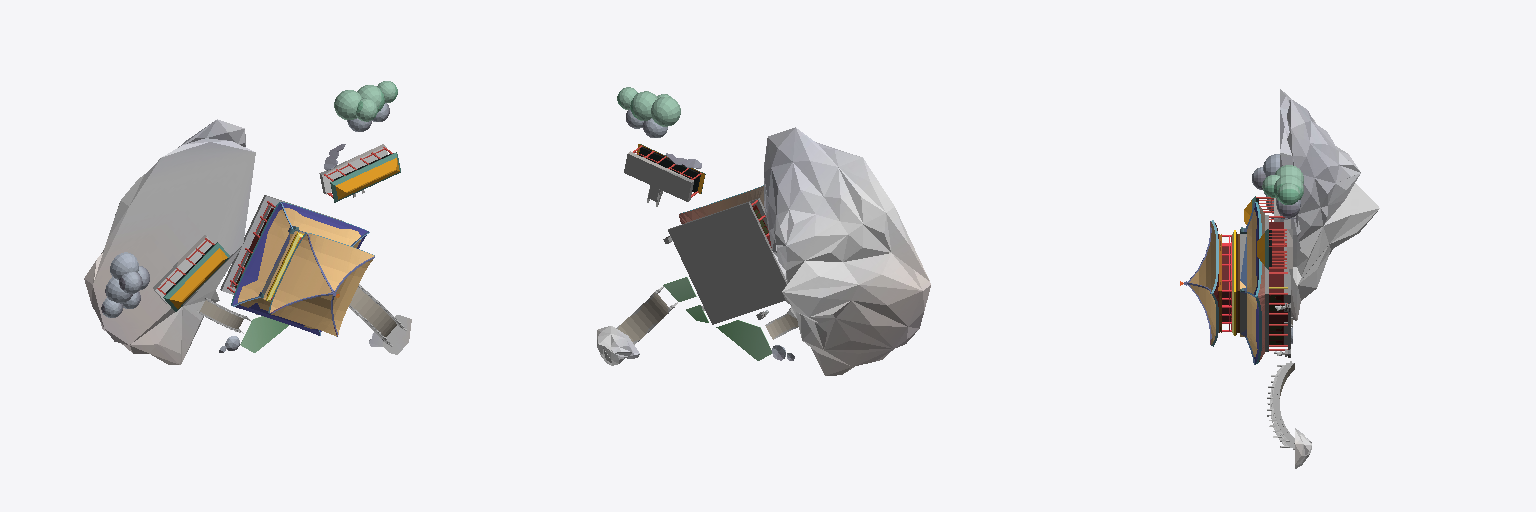
The picture shows the model from 3 angles: view 1: azimuth 30°, elevation 25°; view 2: azimuth 150°, elevation 25°; view 3: azimuth 270°, elevation 25°; orthographic projection.
Bounding box in the file's own units: 80.67 × 66.46 × 42.88.
53 materials, 7 textured.